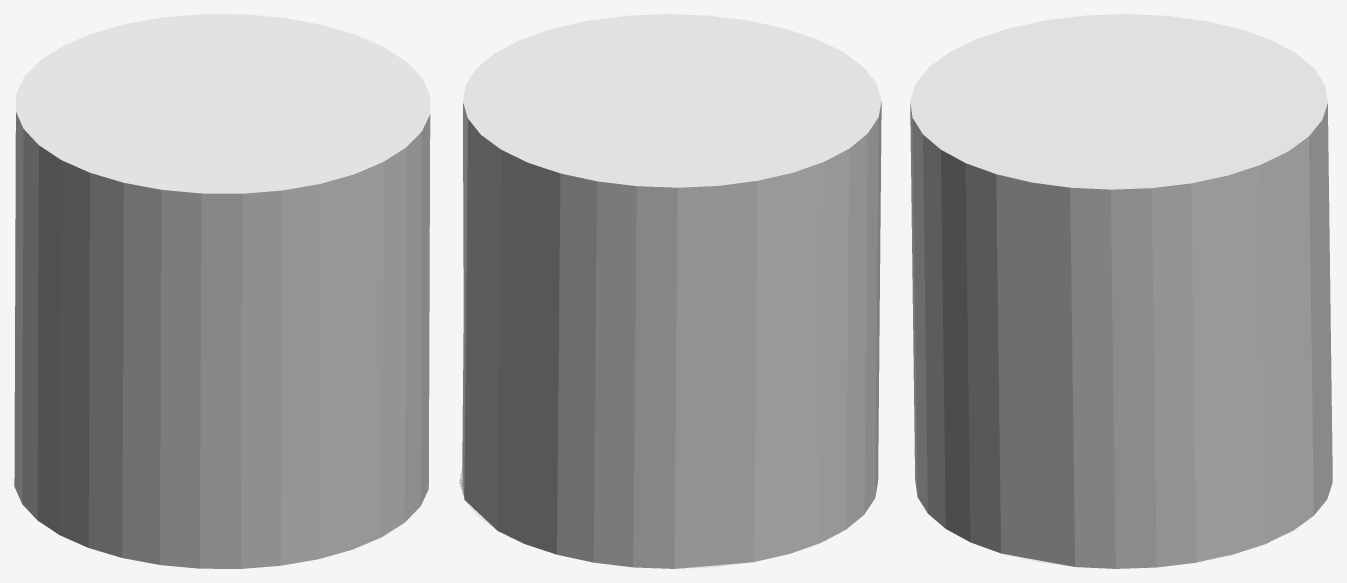
Rendered from ExportedBlenderFBXFile.fbx.
The picture shows the model from 3 angles, left to right: view 1: azimuth 30°, elevation 25°; view 2: azimuth 150°, elevation 25°; view 3: azimuth 270°, elevation 25°; orthographic projection.
Parts seen in each view (by area): view 1: Cylinder; view 2: Cylinder; view 3: Cylinder.
Boxes of the visible parts, left/top/right/bottom form: Cylinder: left=14, top=14, right=430, bottom=568; Cylinder: left=459, top=14, right=881, bottom=568; Cylinder: left=910, top=14, right=1332, bottom=568.
Bounding box in the file's own units: 0.889 × 0.898 × 0.897.
